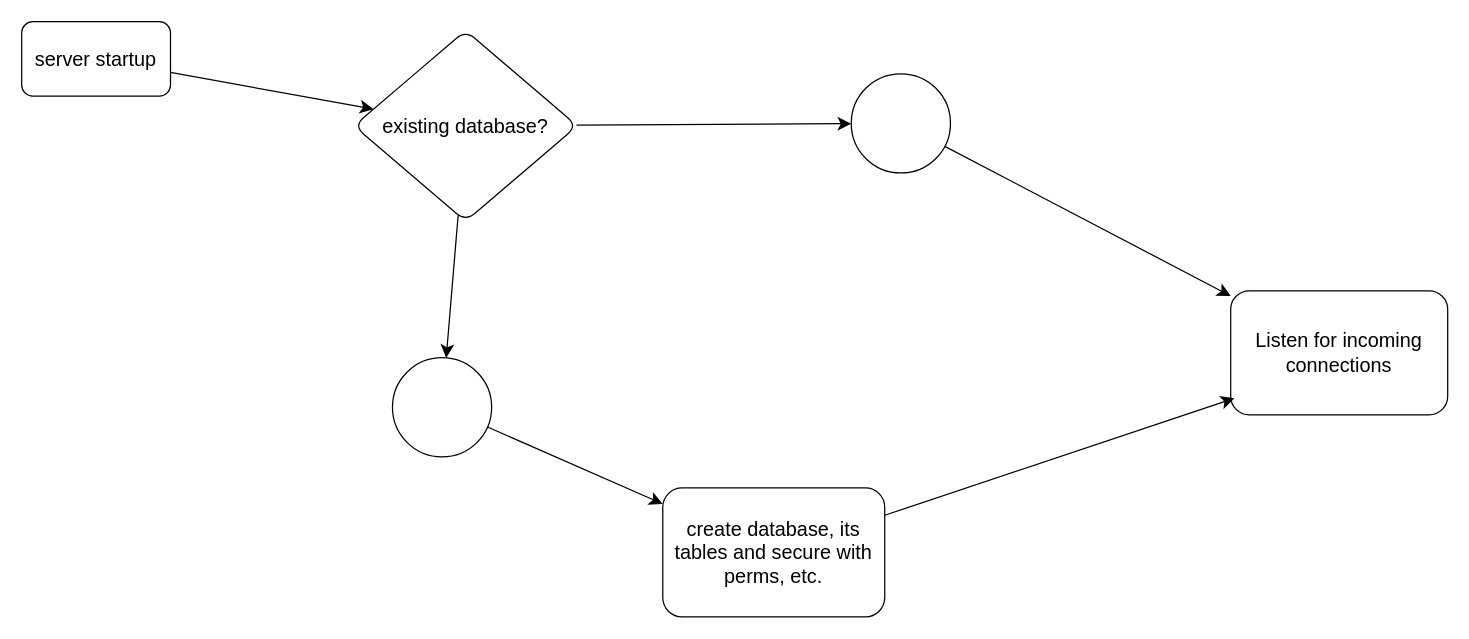
The diagram is 1469 pixels wide and 639 high, and some of its shapes have lost their labels. The centre of each missing label's shape, as x and y in pixels:
"no" goes at (441,406).
"yes" goes at (900,123).
